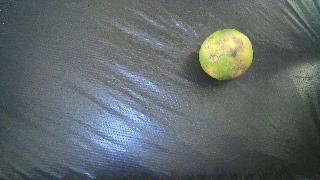DESECHO: (199, 29, 253, 80)
